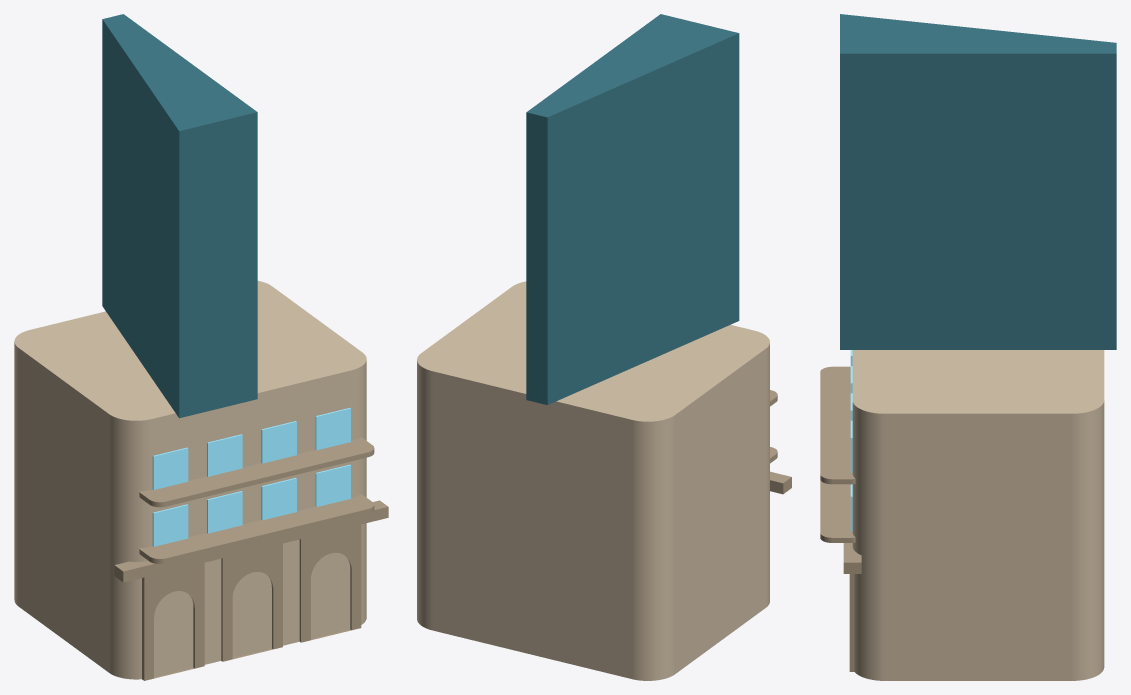
Rendered from arched-apartment.gltf.
The picture shows the model from 3 angles, left to right: view 1: azimuth 30°, elevation 25°; view 2: azimuth 150°, elevation 25°; view 3: azimuth 270°, elevation 25°; orthographic projection. The views are drawn at different scales.
Parts seen in each view (by area): view 1: arched-apartment; view 2: arched-apartment; view 3: arched-apartment.
Part boxes in pixels (x1,y1,x2,y2): arched-apartment: [14, 14, 388, 680]; arched-apartment: [417, 14, 791, 680]; arched-apartment: [820, 14, 1116, 680].
Size of the model in its own units: 8.8 by 17.3 by 8.25.
